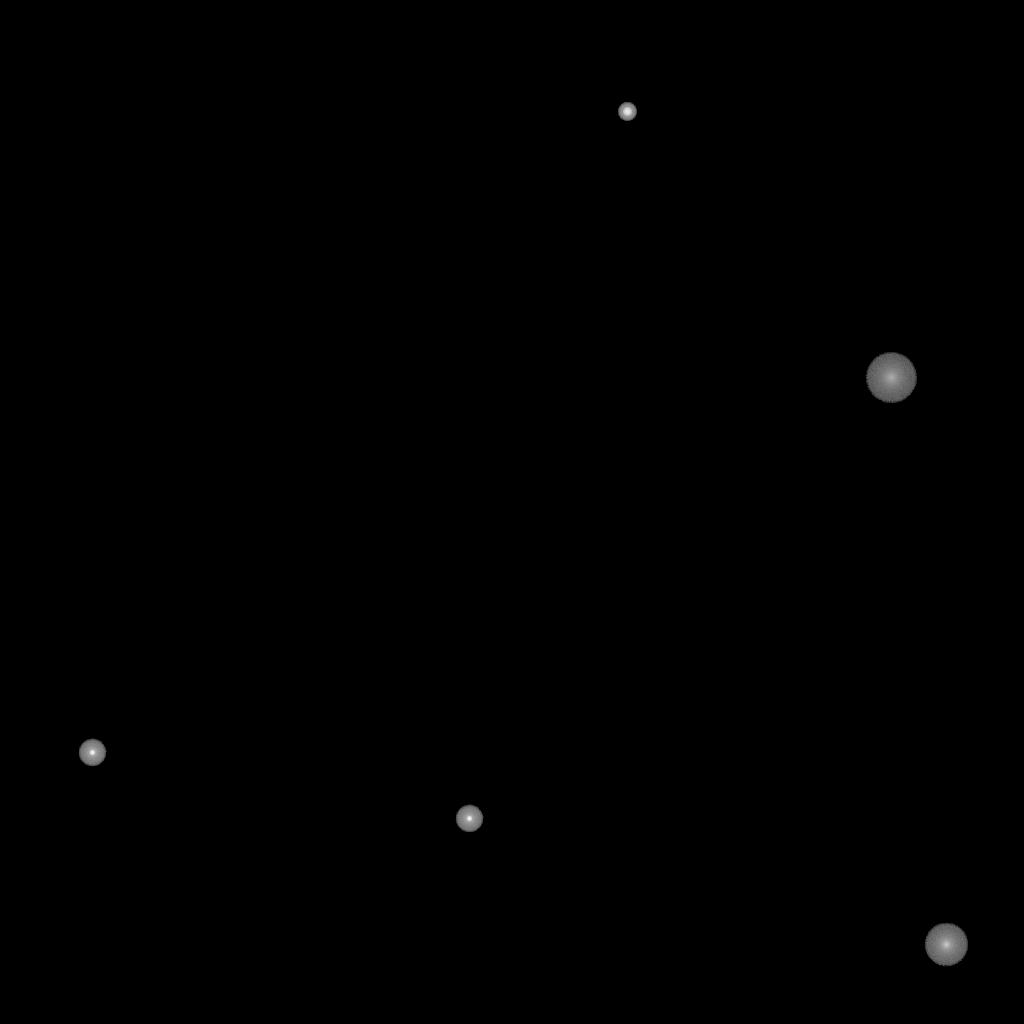depth:-10: (78, 739, 106, 767), (455, 805, 483, 833)
depth:-20: (618, 103, 636, 121)
depth:10: (924, 923, 968, 967)
depth:20: (865, 353, 917, 403)
